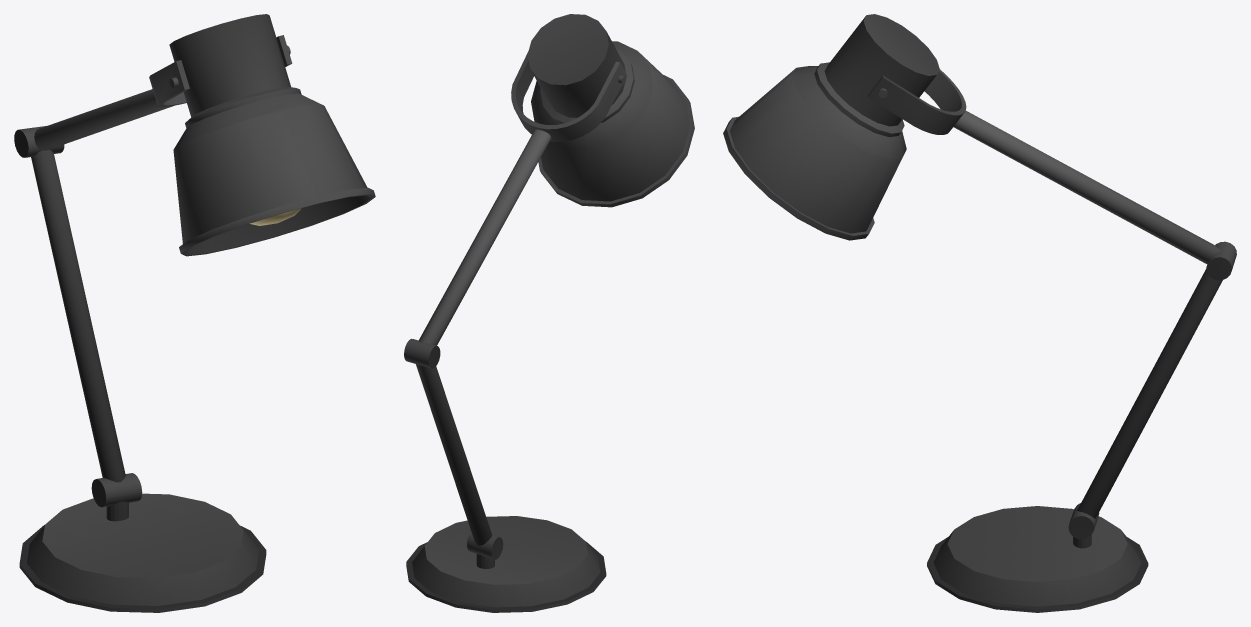
The model's file is L2_Lamp for Potted Plant.fbx.
3 views of the same model, side by side, from view 1: azimuth 30°, elevation 25°; view 2: azimuth 150°, elevation 25°; view 3: azimuth 270°, elevation 25° (orthographic). The views are drawn at different scales.
Visible parts, largest first — view 1: Cylinder012, Lamp; view 2: Cylinder012, Lamp; view 3: Cylinder012, Lamp.
Boxes of the visible parts, x1=… form: Cylinder012: x1=14, y1=35, x2=292, y2=612; Lamp: x1=169, y1=14, x2=375, y2=256; Cylinder012: x1=404, y1=51, x2=627, y2=612; Lamp: x1=527, y1=14, x2=694, y2=207; Cylinder012: x1=867, y1=69, x2=1236, y2=612; Lamp: x1=723, y1=14, x2=939, y2=240.
Bounding box in the file's own units: 17.18 × 46.75 × 39.92.
2 materials, 2 textured.
